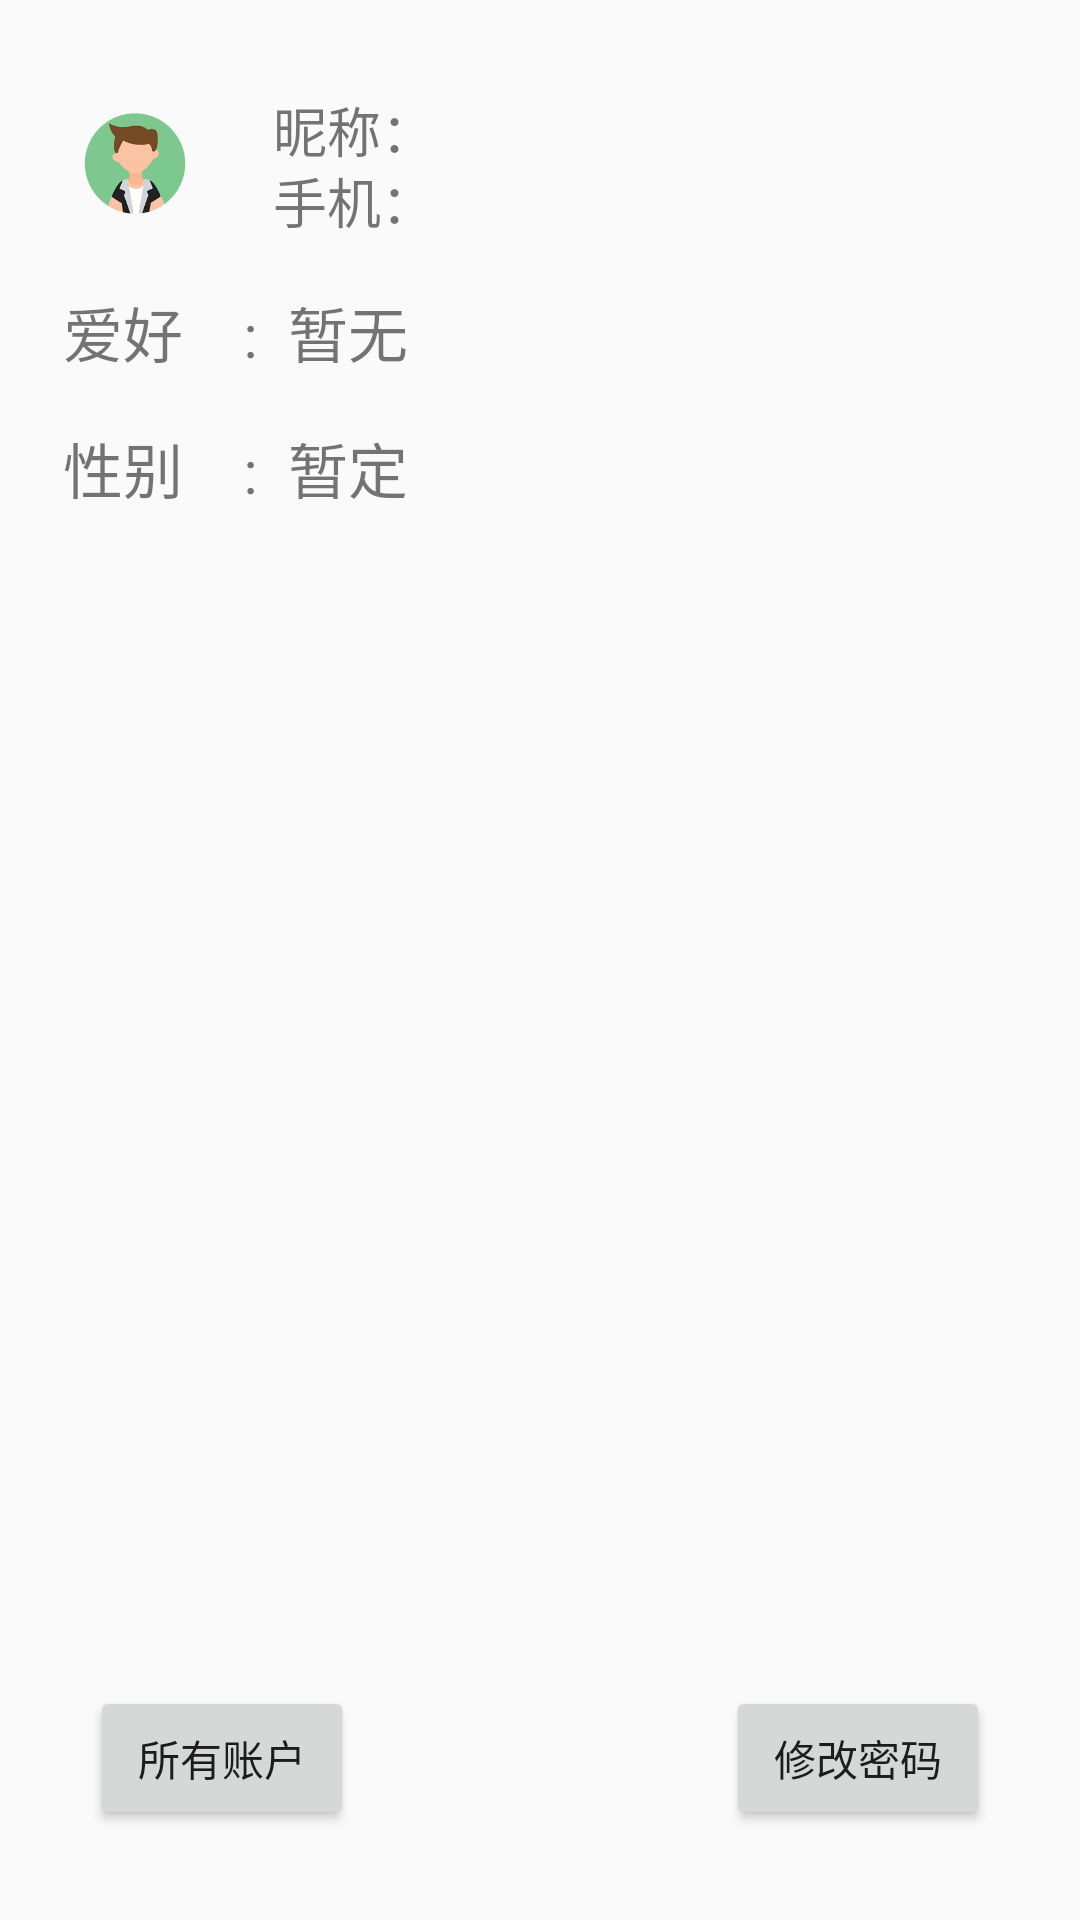

Screen size 1080×1920. Icon name, then its center in pixels as [x,y]:
user: [135,163]
